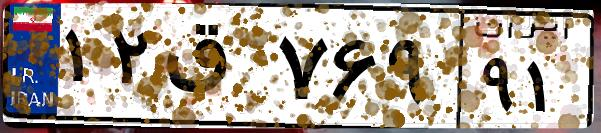1: (57, 26, 110, 100), (525, 38, 570, 115)
2: (110, 28, 158, 98)
6: (330, 28, 385, 110)
7: (270, 28, 330, 110)
9: (385, 28, 445, 110), (475, 38, 525, 113)
ق: (158, 20, 270, 120)
